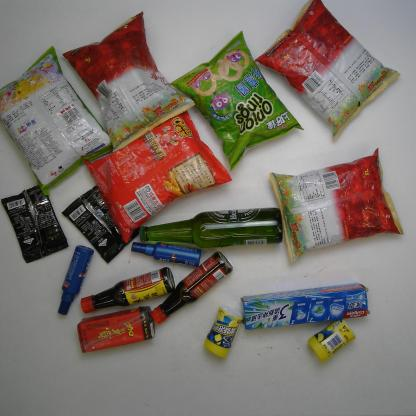Alcohol: (139, 206, 283, 249)
Drink: (77, 305, 156, 354)
Gum: (306, 317, 356, 364), (204, 304, 243, 358)
Instant Drink: (60, 184, 142, 264), (0, 184, 69, 264)
Personal Hygiene: (239, 282, 370, 330), (56, 245, 94, 316), (131, 240, 202, 267)
Puffed Food: (254, 0, 402, 142), (82, 110, 233, 244), (61, 10, 197, 154), (170, 30, 304, 172), (0, 44, 114, 197), (269, 145, 406, 264)
Seasoner: (150, 251, 234, 325), (80, 266, 176, 314)
